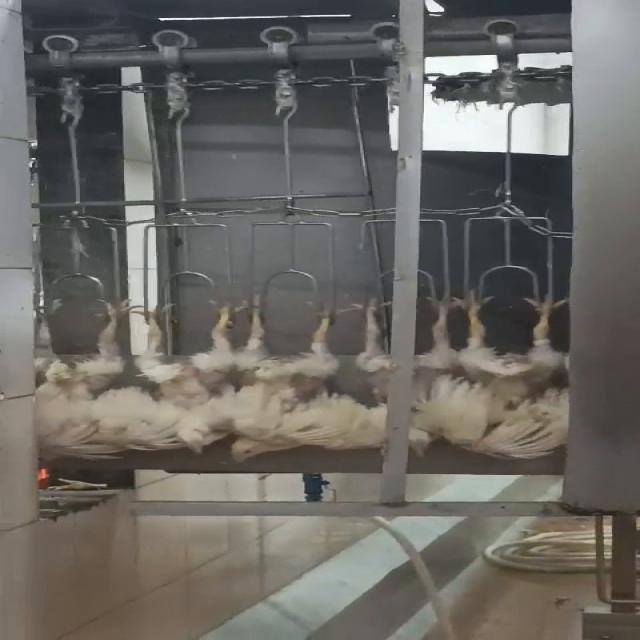chicken: (444, 284, 584, 462), (343, 295, 472, 458), (224, 302, 347, 470), (30, 297, 142, 465), (138, 295, 250, 460)
